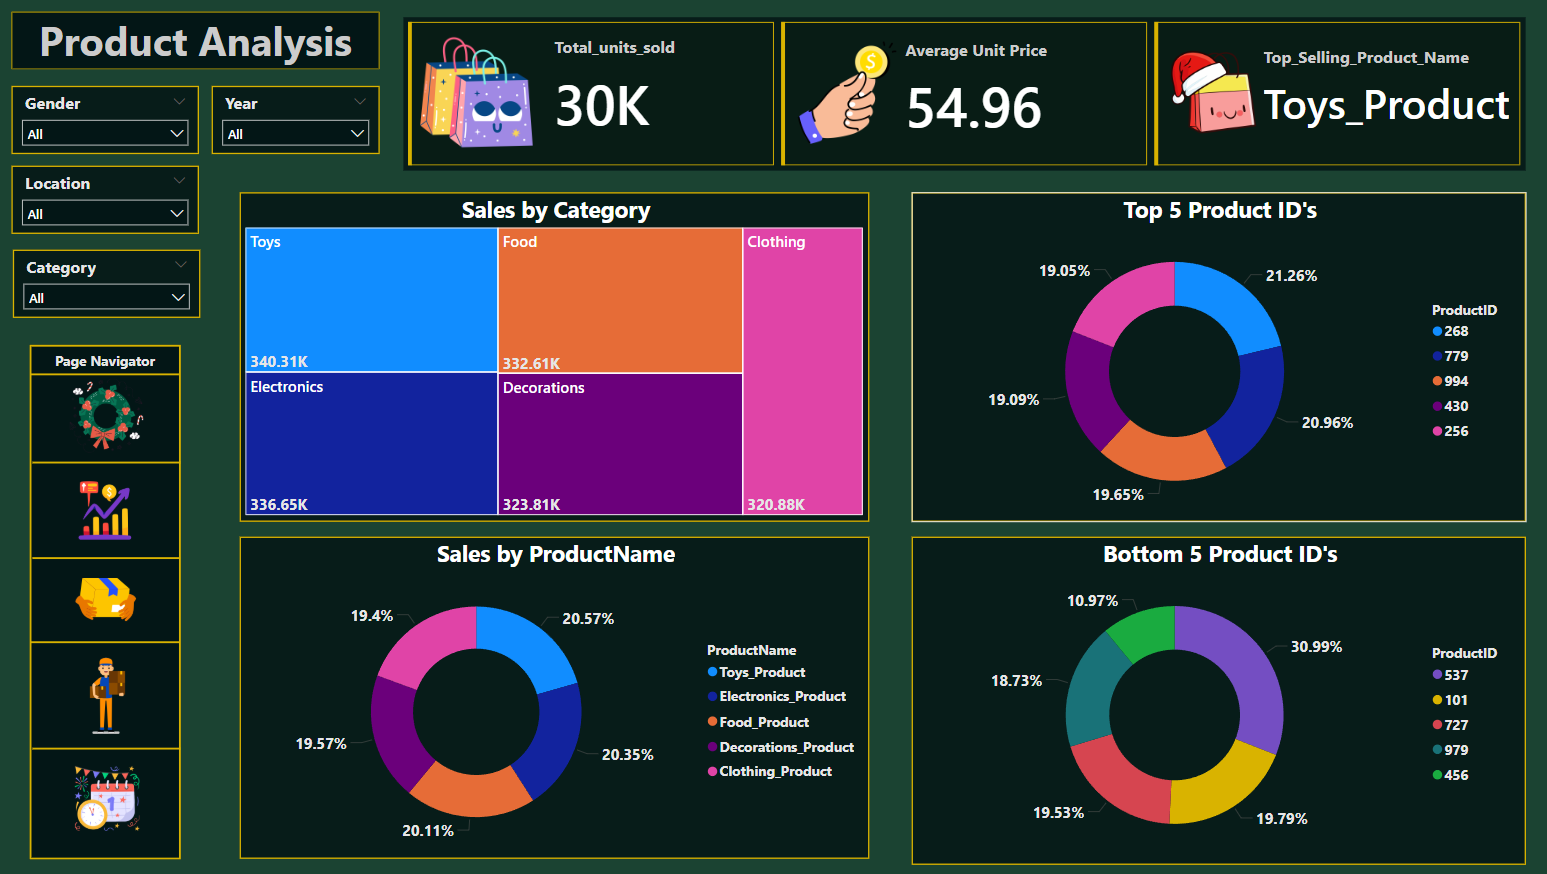

What the dashboard file says about the page in this screenshot:
{"tool":"powerbi","page":{"name":" Product Analysis ","canvas":[1664,936],"ordinal":1},"visuals":[{"type":"treemap","title":"Sales by Category","fields":{"Group":["Christmas sales data.Category"],"Values":["Sum(Christmas sales data.TotalPrice)"]},"box":[260.3,201.6,671.4,352.4],"z":0},{"type":"shape","box":[16.4,13.4,392.5,61.7],"z":1000,"group":"g1"},{"type":"donutChart","title":"Sales by ProductName","fields":{"Category":["Christmas sales data.ProductName"],"Y":["Sum(Christmas sales data.TotalPrice)"]},"box":[258.7,566.7,671.4,344.4],"z":1000},{"type":"donutChart","title":"Top 5 Product ID''s","fields":{"Y":["Sum(Christmas sales data.TotalPrice)"],"Category":["Christmas sales data.ProductID"]},"box":[976.2,201.6,655.6,352.4],"z":2000},{"type":"donutChart","title":"Bottom 5 Product ID''s","fields":{"Y":["Sum(Christmas sales data.TotalPrice)"],"Category":["Christmas sales data.ProductID"]},"box":[976.2,566.2,655,351.2],"z":3000},{"type":"cardVisual","fields":{"Data":["MeasuresTable.Total_units_sold","MeasuresTable.Average Unit Price","MeasuresTable.Top_Selling_Product_Name"]},"box":[435,20,1196.7,163.3],"z":4000},{"type":"textbox","box":[16.5,10.4,392.3,67.2],"z":5000,"group":"g1"},{"type":"slicer","fields":{"Values":["Christmas sales data.Gender"]},"box":[17,92,200,73],"z":5000},{"type":"slicer","fields":{"Values":["Christmas sales data.Location"]},"box":[16.8,178.2,200,73.2],"z":6000},{"type":"slicer","fields":{"Values":["Christmas sales data.Category"]},"box":[18,267,200,73],"z":7000},{"type":"slicer","fields":{"Values":["Christmas sales data.Date.Variation.Date Hierarchy.Year"]},"box":[229.9,92.5,179.1,73.1],"z":8000},{"type":"group","id":"g1","title":"Group 3","box":[16.4,10.4,392.5,67.2],"z":10000},{"type":"group","id":"g2","title":"Group 2","box":[36.7,442,167,470],"z":10001},{"type":"shape","box":[36.7,442,167,470],"z":12000,"group":"g3"},{"type":"group","id":"g3","title":"Group 1","box":[36.7,442,167,470],"z":13000,"group":"g2"},{"type":"image","box":[73.2,582.2,94.1,86.4],"z":13000,"group":"g3"},{"type":"textbox","box":[38.7,443.3,163.3,31],"z":14000,"group":"g2"},{"type":"image","box":[77.3,486.2,86.1,81],"z":14000,"group":"g3"},{"type":"image","box":[74.7,801.8,94.1,86.1],"z":15000,"group":"g3"},{"type":"image","box":[74.7,683.8,94.7,94.7],"z":16000,"group":"g3"},{"type":"shape","box":[39.6,468.1,163.2,12.7],"z":17000,"group":"g3"},{"type":"shape","box":[39.6,572.1,162.9,13.4],"z":19000,"group":"g3"},{"type":"shape","box":[38.5,665.2,163.5,13.7],"z":20000,"group":"g3"},{"type":"shape","box":[39.6,782.4,163.5,13.7],"z":21000,"group":"g3"}]}

Visuals, with their boxes in screenshot pixels (x1, y1, x2, y2), scaled from the page's 1664x936 canvas onto the 1547x874 screenshot:
"Sales by Category" treemap: {"left": 242, "top": 188, "right": 866, "bottom": 517}
shape: {"left": 15, "top": 13, "right": 380, "bottom": 70}
"Sales by ProductName" donutChart: {"left": 241, "top": 529, "right": 865, "bottom": 851}
"Top 5 Product ID''s" donutChart: {"left": 908, "top": 188, "right": 1517, "bottom": 517}
"Bottom 5 Product ID''s" donutChart: {"left": 908, "top": 529, "right": 1517, "bottom": 857}
cardVisual - MeasuresTable.Total_units_sold x MeasuresTable.Average Unit Price: {"left": 404, "top": 19, "right": 1517, "bottom": 171}
textbox: {"left": 15, "top": 10, "right": 380, "bottom": 72}
slicer - Christmas sales data.Gender: {"left": 16, "top": 86, "right": 202, "bottom": 154}
slicer - Christmas sales data.Location: {"left": 16, "top": 166, "right": 202, "bottom": 235}
slicer - Christmas sales data.Category: {"left": 17, "top": 249, "right": 203, "bottom": 317}
slicer - Christmas sales data.Date.Variation.Date Hierarchy.Year: {"left": 214, "top": 86, "right": 380, "bottom": 155}
"Group 3" group: {"left": 15, "top": 10, "right": 380, "bottom": 72}
"Group 2" group: {"left": 34, "top": 413, "right": 189, "bottom": 852}
shape: {"left": 34, "top": 413, "right": 189, "bottom": 852}
"Group 1" group: {"left": 34, "top": 413, "right": 189, "bottom": 852}
image: {"left": 68, "top": 544, "right": 156, "bottom": 624}
textbox: {"left": 36, "top": 414, "right": 188, "bottom": 443}
image: {"left": 72, "top": 454, "right": 152, "bottom": 530}
image: {"left": 69, "top": 749, "right": 157, "bottom": 829}
image: {"left": 69, "top": 639, "right": 157, "bottom": 727}
shape: {"left": 37, "top": 437, "right": 189, "bottom": 449}
shape: {"left": 37, "top": 534, "right": 188, "bottom": 547}
shape: {"left": 36, "top": 621, "right": 188, "bottom": 634}
shape: {"left": 37, "top": 731, "right": 189, "bottom": 743}
